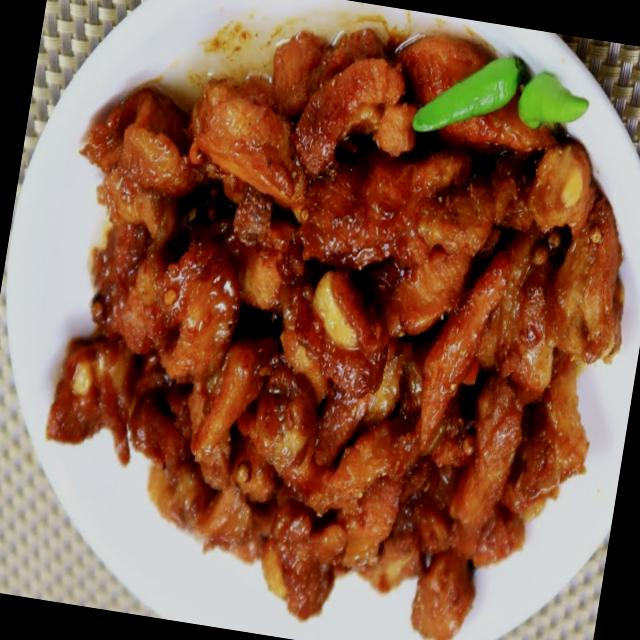kho tieu: (47, 34, 624, 640)
